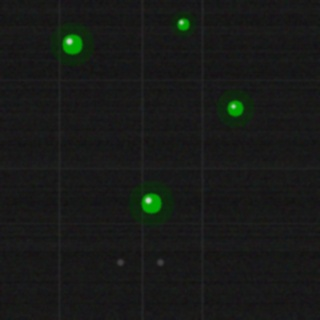green_normal: (60, 32, 84, 56), (139, 191, 163, 215), (225, 98, 245, 118), (175, 16, 191, 32)
